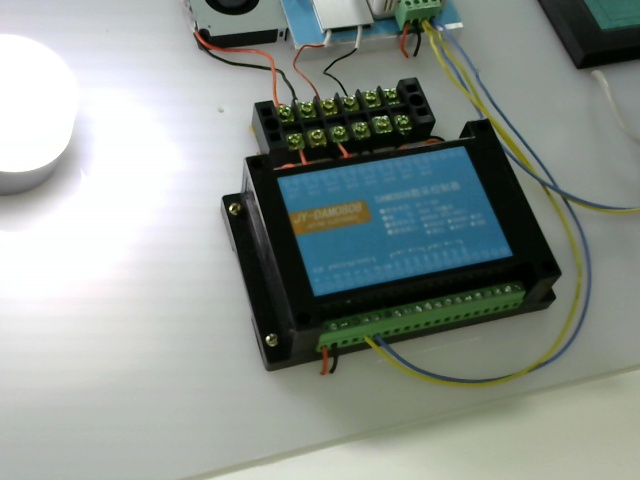relay: (205, 128, 572, 358)
